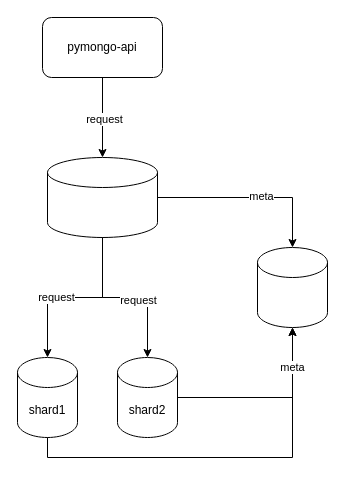
Some shapes in this 345 by 483 pixel diagram are drawn without their labels. Each missing label, with the centre of its shape:
configSrv: point 292,287
mongos_router: point 102,197
